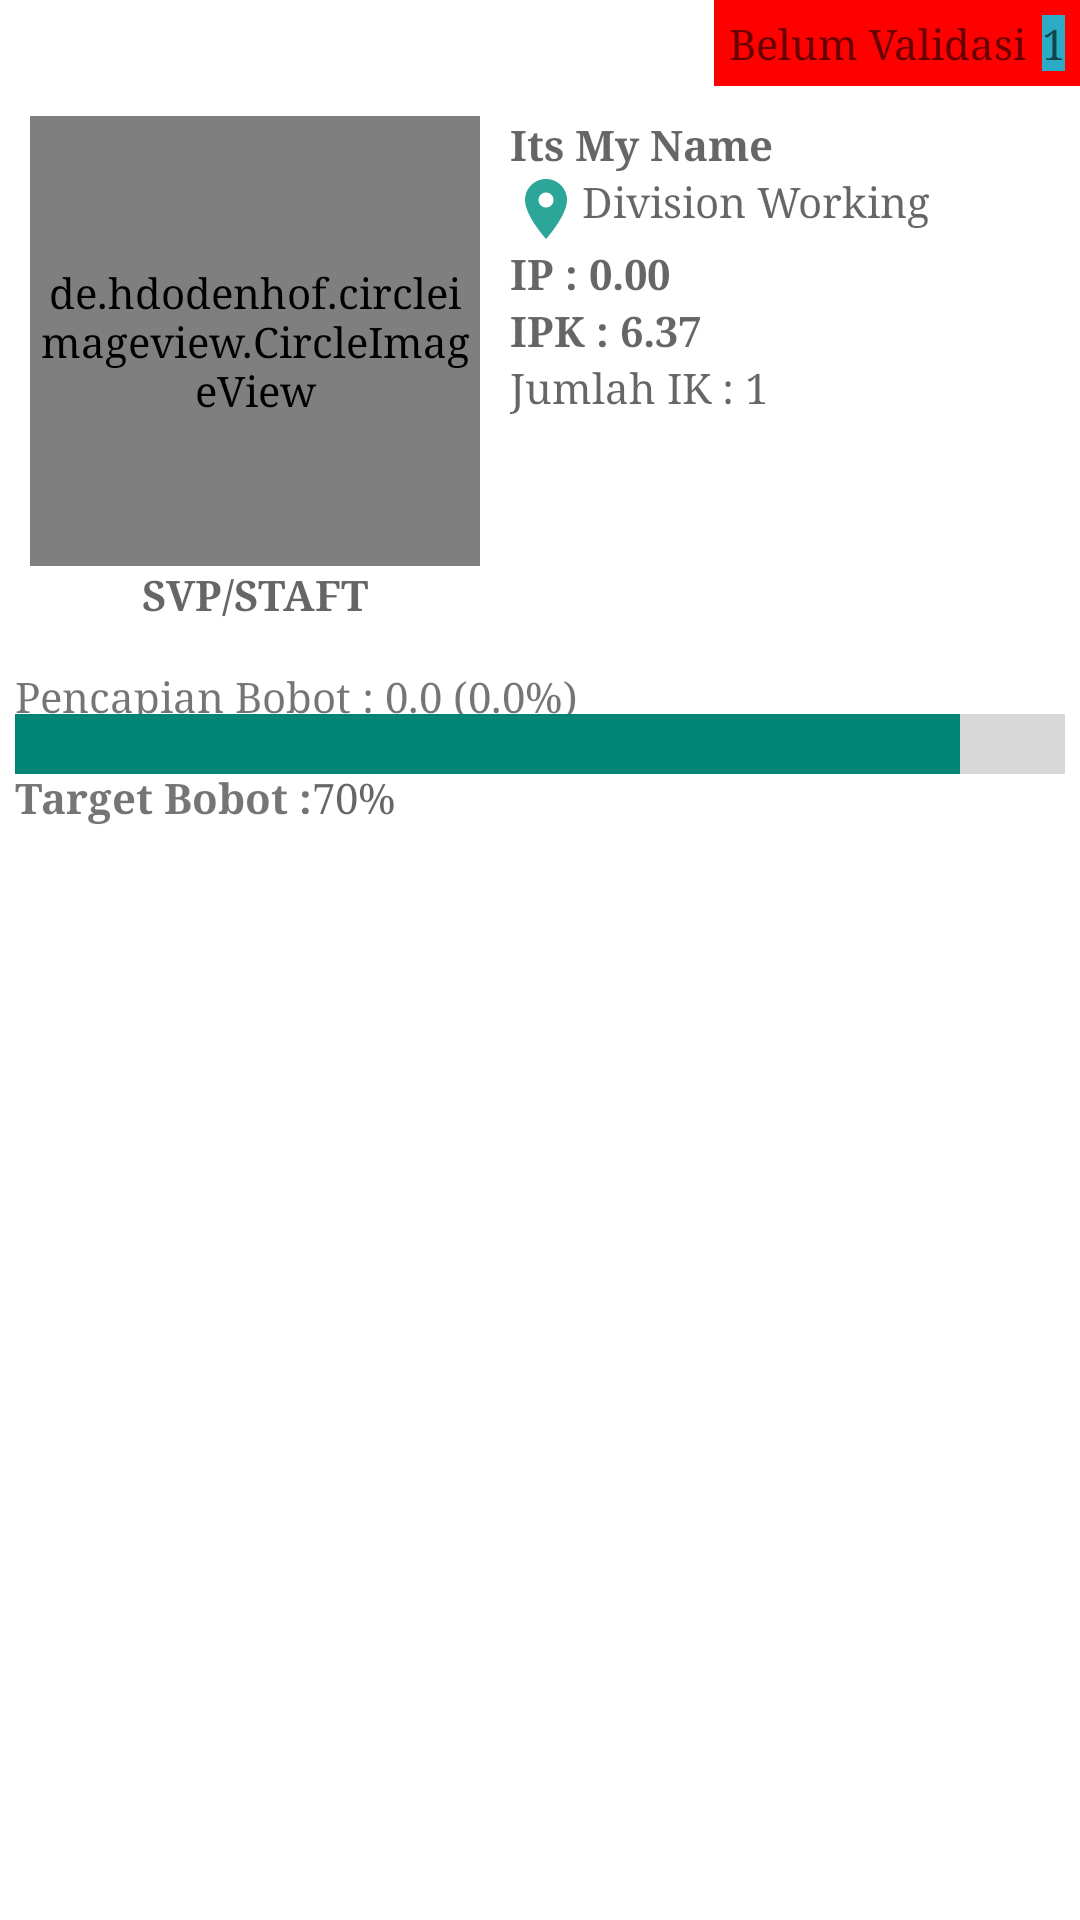

Point at icon controls on the screen. Image size 1080×1920, points as (x=x, y=y).
location: (x=546, y=209)
